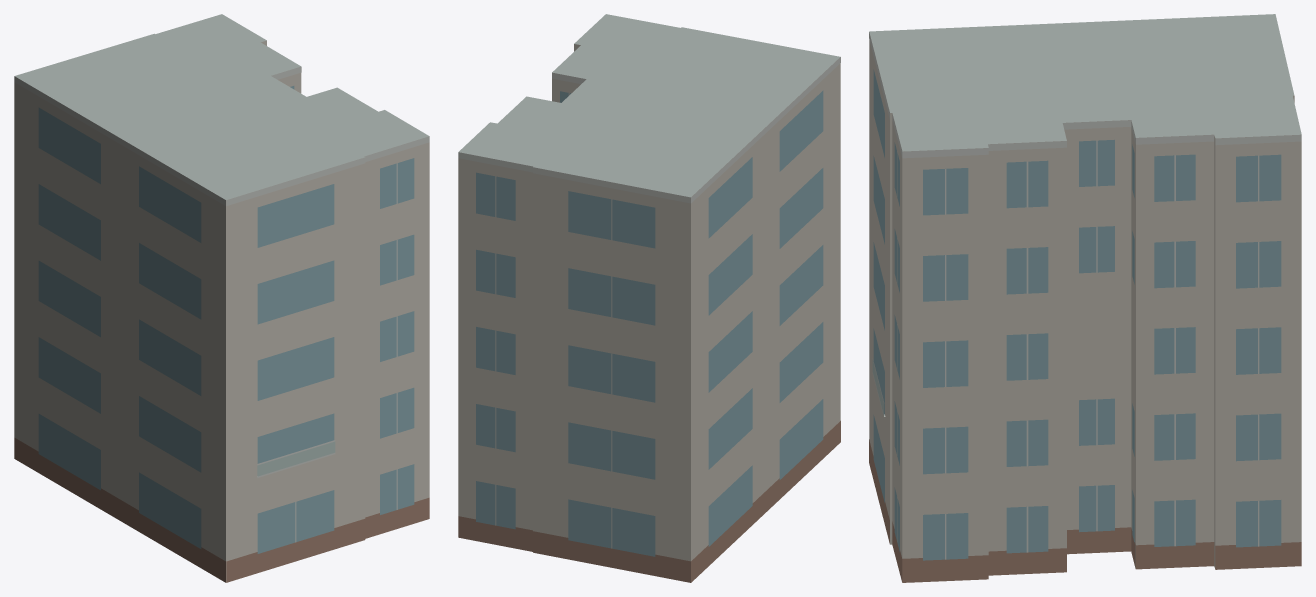
Rendered from survey-upis-32670465.glb.
The picture shows the model from 3 angles, left to right: view 1: azimuth 30°, elevation 25°; view 2: azimuth 150°, elevation 25°; view 3: azimuth 270°, elevation 25°; orthographic projection. The views are drawn at different scales.
Visible parts, largest first — view 1: survey-upis-32670465.tmp; view 2: survey-upis-32670465.tmp; view 3: survey-upis-32670465.tmp.
Boxes of the visible parts, x1,y1,x2,y2 form: survey-upis-32670465.tmp: (14,14,429,582); survey-upis-32670465.tmp: (458,14,840,582); survey-upis-32670465.tmp: (869,14,1301,582).
Bounding box in the file's own units: 10.55 × 15.42 × 14.03.
